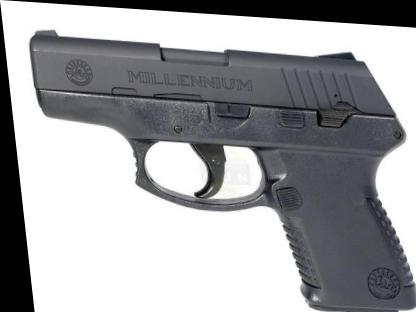pistol: (25, 23, 415, 311)
